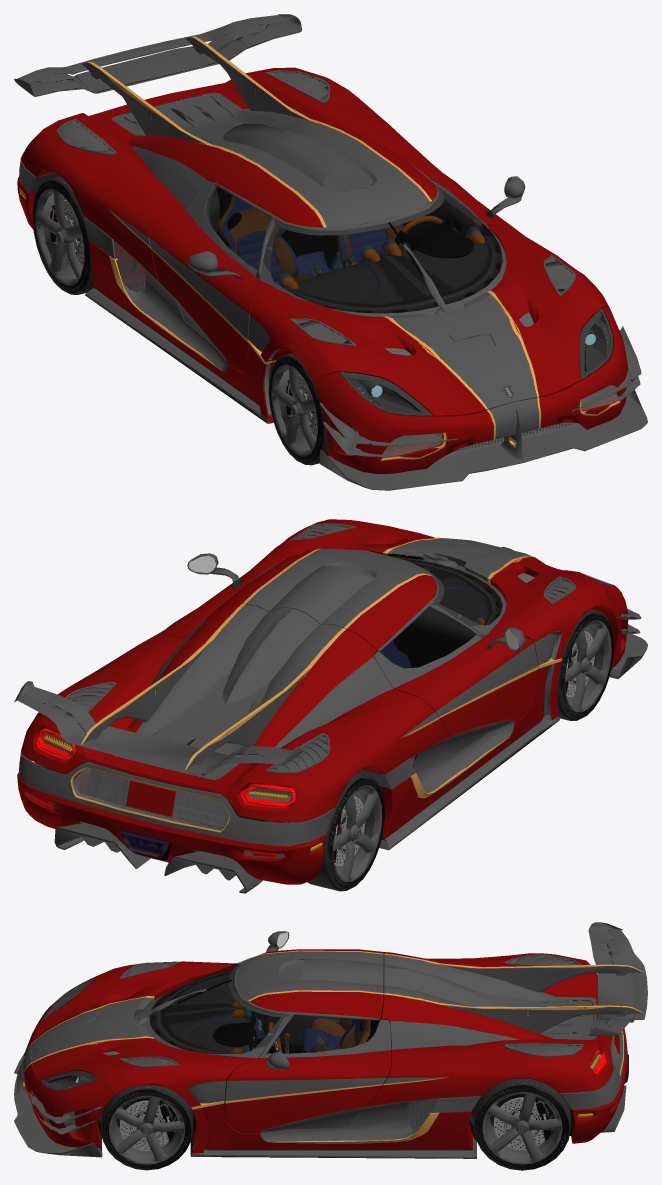
File: koenigsegg-one1-low.glb
The picture shows the model from 3 angles, top to bottom: view 1: azimuth 30°, elevation 25°; view 2: azimuth 150°, elevation 25°; view 3: azimuth 270°, elevation 25°; orthographic projection. The views are drawn at different scales.
Visible parts, largest first — view 1: Object_8, Object_4, Object_7, Object_5, Object_2, Object_6, Object_3; view 2: Object_8, Object_4, Object_2, Object_7, Object_5, Object_6, Object_3; view 3: Object_8, Object_4, Object_2, Object_7, Object_5, Object_3, Object_6.
Boxes of the visible parts, left/top/right/bottom form: Object_8: left=17, top=67, right=628, bottom=473; Object_4: left=14, top=14, right=647, bottom=490; Object_7: left=206, top=175, right=613, bottom=415; Object_5: left=208, top=183, right=506, bottom=371; Object_2: left=32, top=86, right=513, bottom=465; Object_6: left=46, top=173, right=617, bottom=459; Object_3: left=51, top=205, right=317, bottom=450; Object_8: left=17, top=519, right=628, bottom=884; Object_4: left=14, top=523, right=647, bottom=893; Object_2: left=34, top=547, right=613, bottom=891; Object_7: left=37, top=550, right=612, bottom=808; Object_5: left=374, top=552, right=506, bottom=766; Object_6: left=27, top=573, right=561, bottom=858; Object_3: left=350, top=624, right=604, bottom=841; Object_8: left=23, top=949, right=627, bottom=1158; Object_4: left=14, top=922, right=647, bottom=1158; Object_2: left=33, top=1009, right=570, bottom=1170; Object_7: left=40, top=957, right=606, bottom=1090; Object_5: left=134, top=959, right=391, bottom=1124; Object_3: left=111, top=1100, right=529, bottom=1159; Object_6: left=34, top=1042, right=618, bottom=1145.
Size of the model in its own units: 2.67 by 1.44 by 5.46.
Materials: 6 (6 with a texture image).
